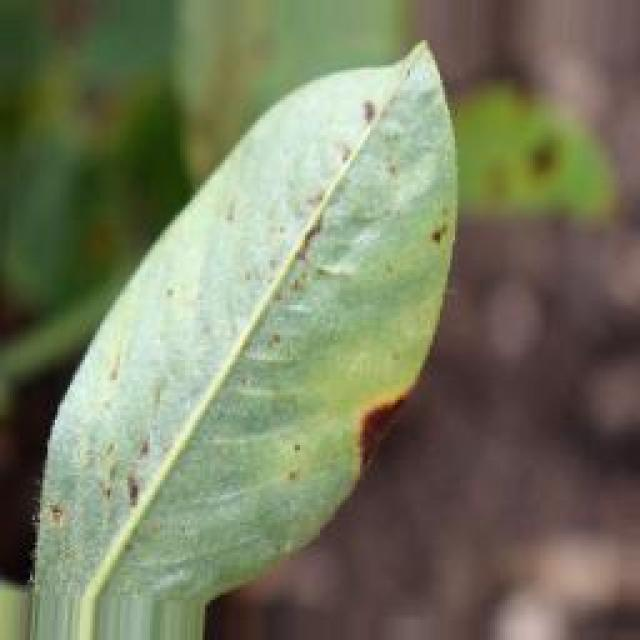Early_leaf_spot: (331, 364, 415, 478), (277, 180, 367, 281), (399, 195, 480, 286), (118, 412, 163, 524), (352, 99, 412, 164), (25, 490, 86, 543), (202, 186, 254, 240)
